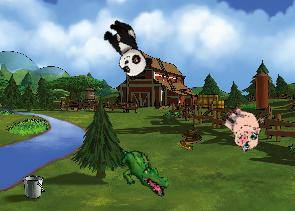crocodile: (108, 144, 176, 198)
panda: (96, 15, 156, 82)
pig: (214, 100, 270, 155)
